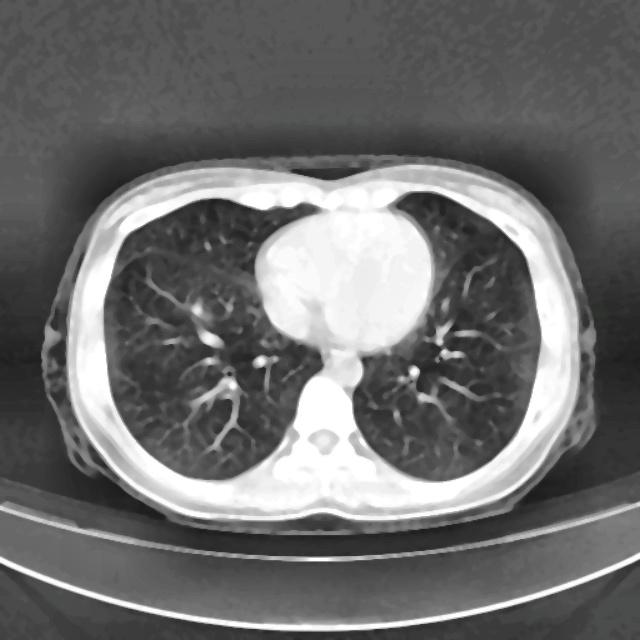covid: (40, 154, 598, 535)
